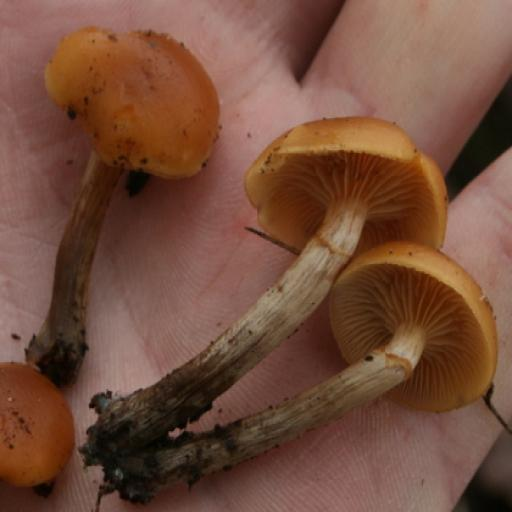mushroom: (30, 9, 501, 450)
